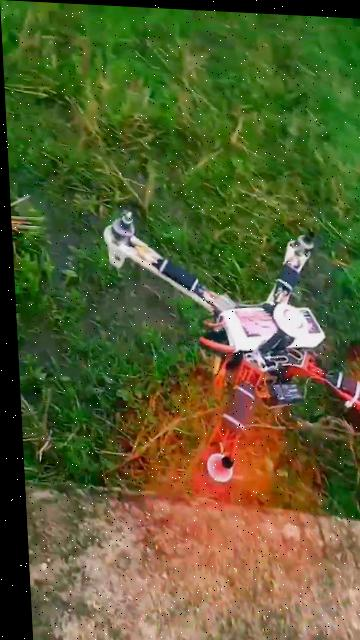drone: (65, 173, 360, 530)
